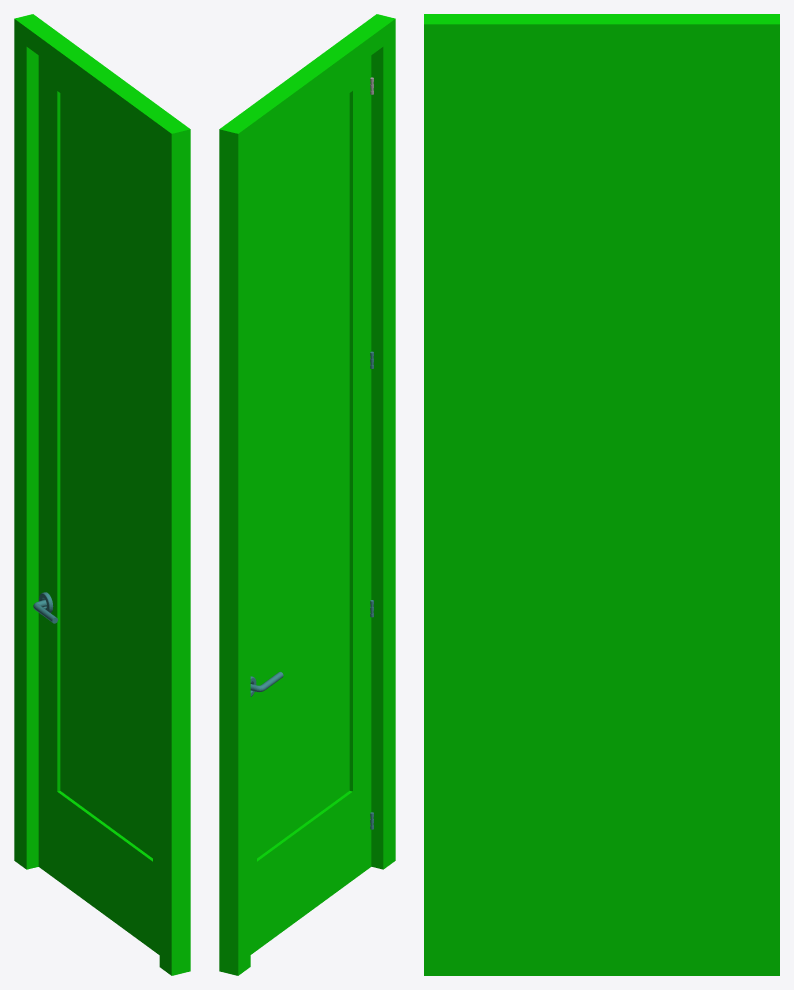
3 renders of one model, left to right at view 1: azimuth 30°, elevation 25°; view 2: azimuth 150°, elevation 25°; view 3: azimuth 270°, elevation 25°, orthographic. The views are drawn at different scales.
Parts seen in each view (by area): view 1: polySurface161; view 2: polySurface161; view 3: polySurface161.
Part boxes in pixels (x1,y1,x2,y2): polySurface161: (14,14,190,975); polySurface161: (219,14,395,975); polySurface161: (424,14,779,975).
Size of the model in its own units: 8.54 by 304 by 103.
